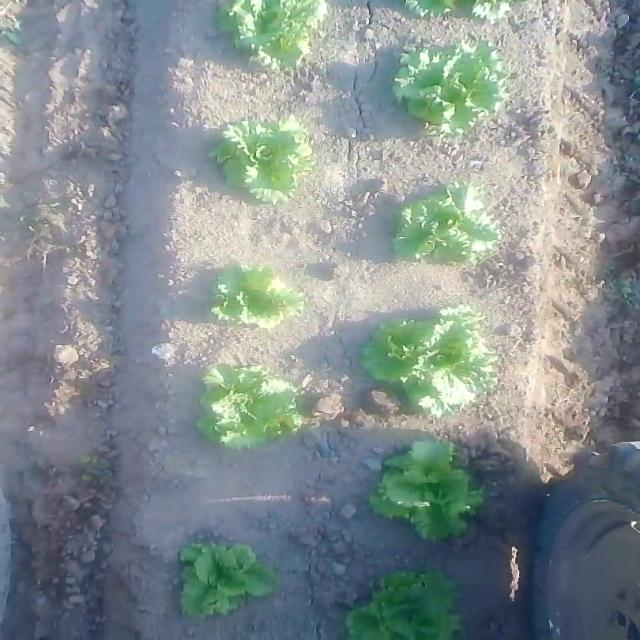Lettuce-Ready-to-Harvest: (360, 302, 499, 419), (370, 438, 484, 543), (394, 37, 506, 134), (393, 182, 499, 266), (211, 115, 313, 202), (202, 365, 300, 451), (210, 266, 308, 332)
